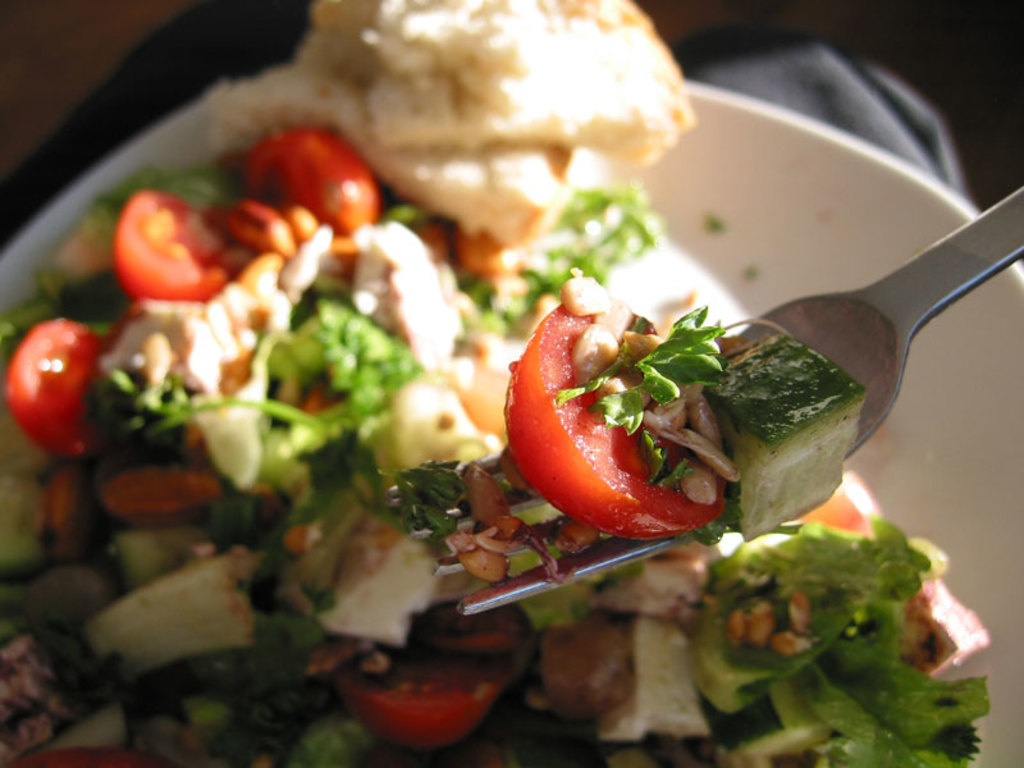Tomato: (503, 294, 695, 537), (3, 317, 108, 462), (110, 190, 239, 307), (248, 131, 390, 235), (331, 677, 496, 747)
